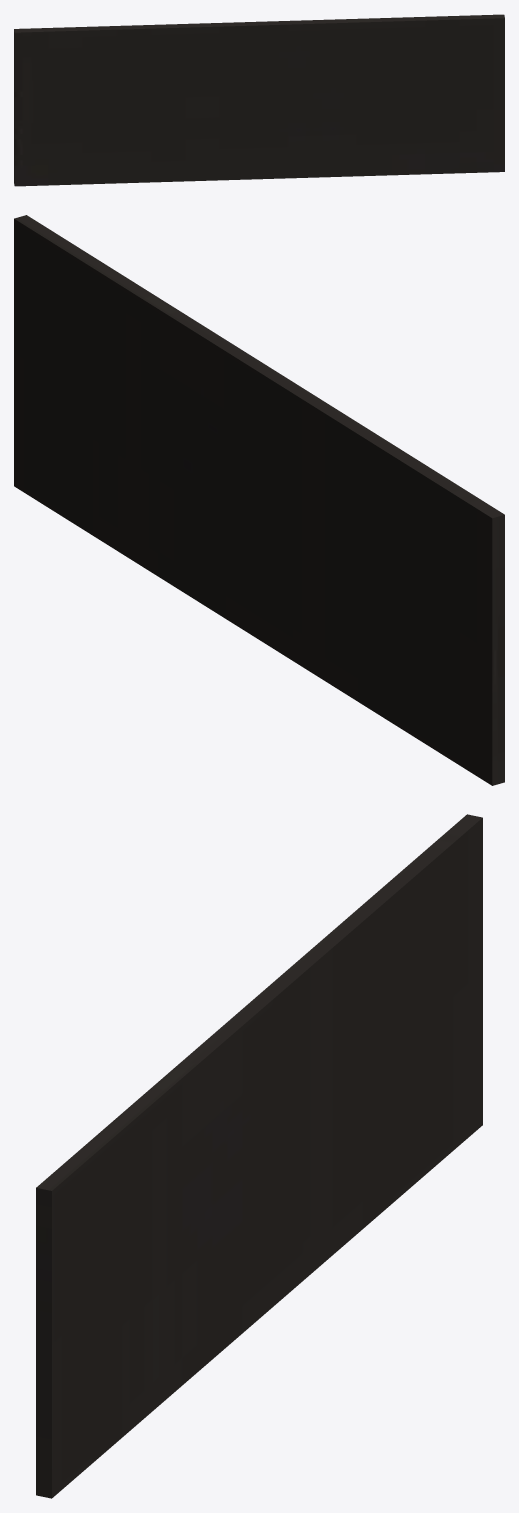
Rendered from backrest__backrest_board.glb.
The picture shows the model from 3 angles, top to bottom: view 1: azimuth 30°, elevation 25°; view 2: azimuth 150°, elevation 25°; view 3: azimuth 270°, elevation 25°; orthographic projection. The views are drawn at different scales.
Parts seen in each view (by area): view 1: world; view 2: world; view 3: world.
Boxes of the visible parts, left/top/right/bottom form: world: left=14, top=14, right=504, bottom=186; world: left=14, top=215, right=504, bottom=785; world: left=36, top=814, right=482, bottom=1498.
Bounding box in the file's own units: 0.7616 × 0.29 × 0.3817.
Materials: 1 (1 with a texture image).
